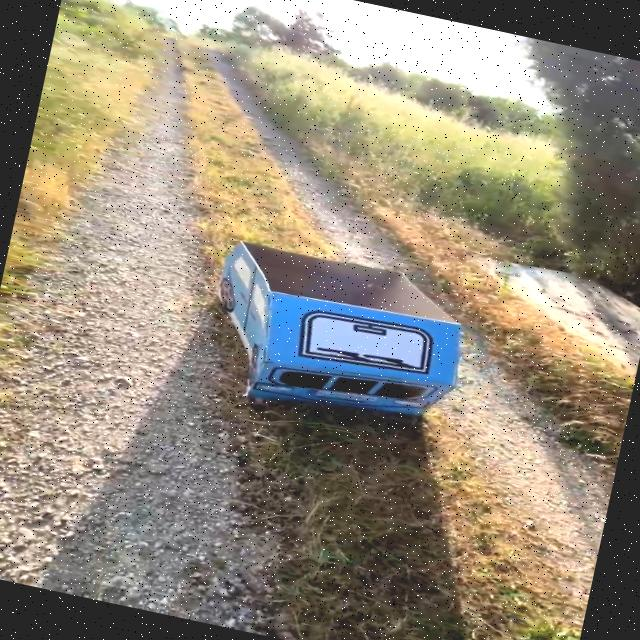blue_car: (127, 196, 534, 460)
